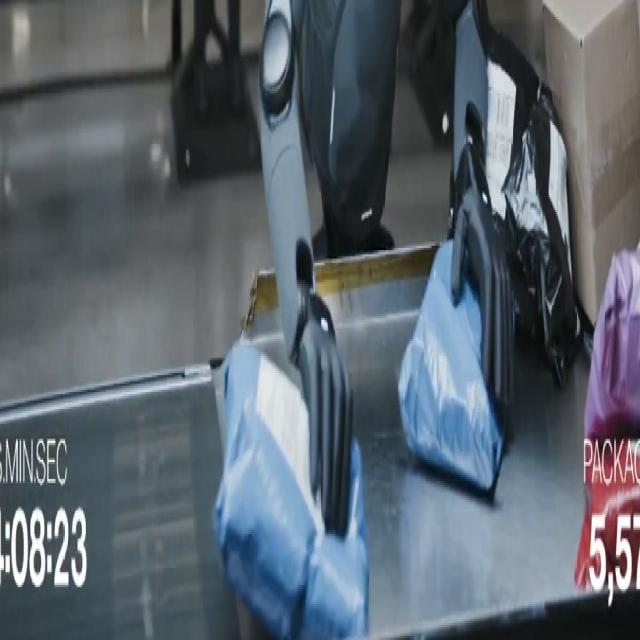package: (214, 342, 368, 637), (486, 28, 580, 385), (544, 0, 639, 324), (399, 242, 503, 495), (498, 85, 581, 387), (486, 26, 540, 220), (585, 248, 639, 440), (575, 439, 639, 591)
